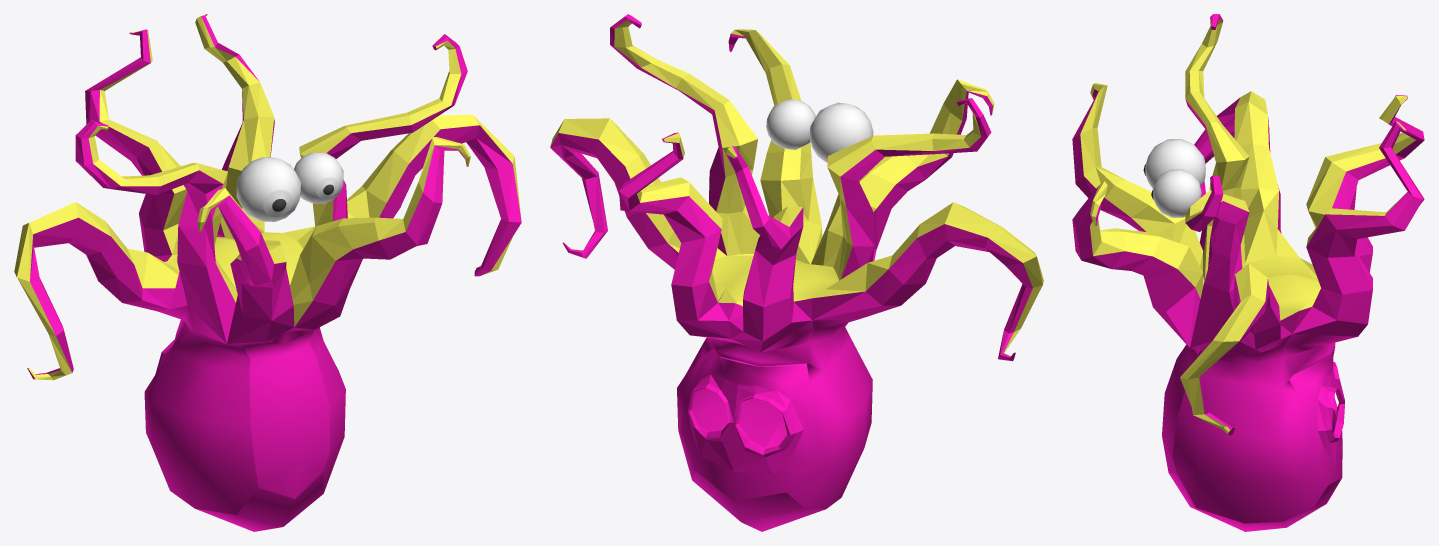
File: Octopus FBX.FBX
3 renders of one model, left to right at view 1: azimuth 30°, elevation 25°; view 2: azimuth 150°, elevation 25°; view 3: azimuth 270°, elevation 25°, orthographic. The views are drawn at different scales.
Parts seen in each view (by area): view 1: Box001, Sphere011, Sphere012; view 2: Box001, Sphere011, Sphere012; view 3: Box001, Sphere011, Sphere012.
Part boxes in pixels (x1,y1,x2,y2): Box001: (14,14,521,531); Sphere011: (236,157,301,221); Sphere012: (293,152,343,203); Box001: (550,14,1043,531); Sphere011: (809,102,873,162); Sphere012: (766,99,815,149); Box001: (1072,14,1424,531); Sphere011: (1143,139,1205,188); Sphere012: (1151,169,1201,217).
Size of what is drawn, in the model's own units: 105 by 93.48 by 68.29.
